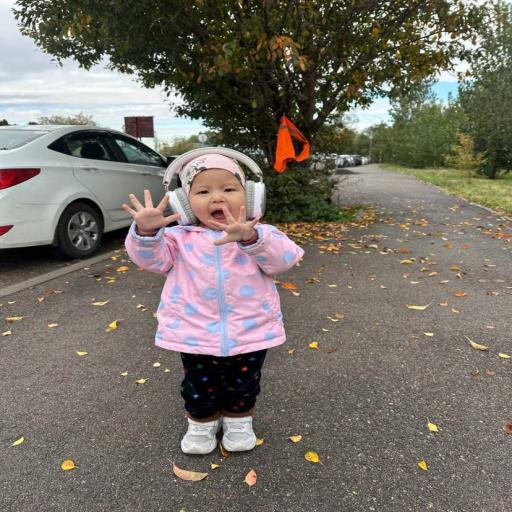bottle: (0, 125, 166, 258)
bus_stop: (123, 154, 303, 453)
shelf: (0, 165, 511, 512)
